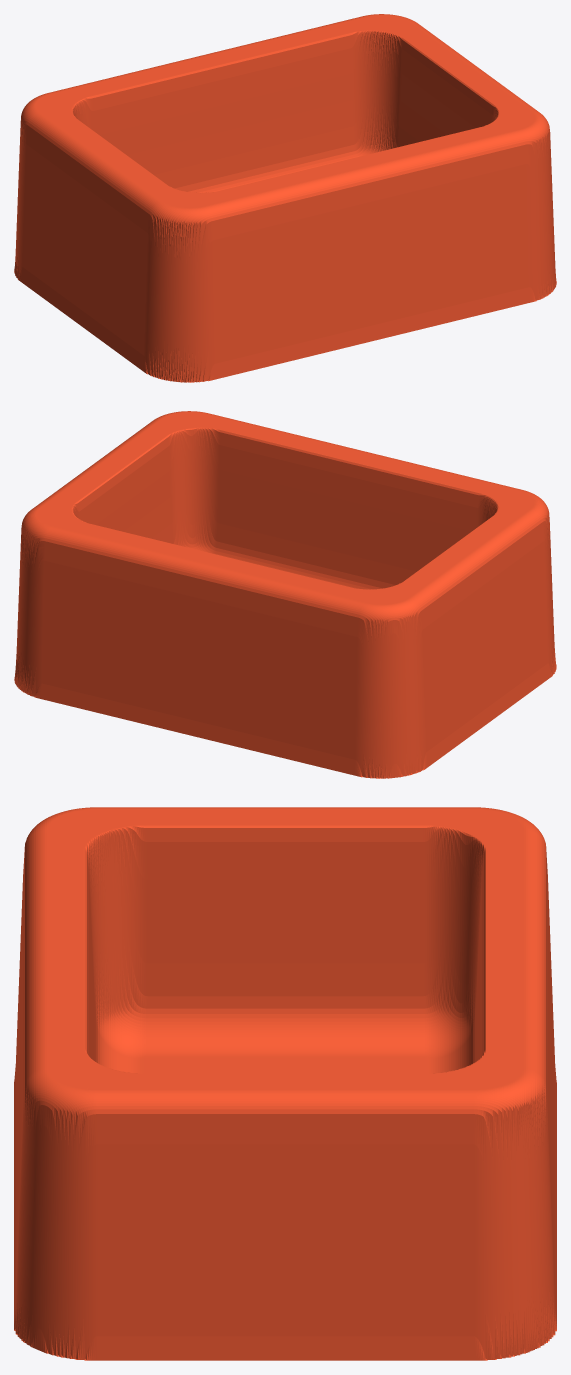
File: mold.glb
3 renders of one model, top to bottom at view 1: azimuth 30°, elevation 25°; view 2: azimuth 150°, elevation 25°; view 3: azimuth 270°, elevation 25°, orthographic. The views are drawn at different scales.
Visible parts, largest first — view 1: geometry_0; view 2: geometry_0; view 3: geometry_0.
Part boxes in pixels (bbox=[...]): geometry_0: bbox=[14, 14, 556, 382]; geometry_0: bbox=[14, 411, 556, 778]; geometry_0: bbox=[14, 807, 556, 1360].
Size of the model in its own units: 0.0798 by 0.031 by 0.0594.
